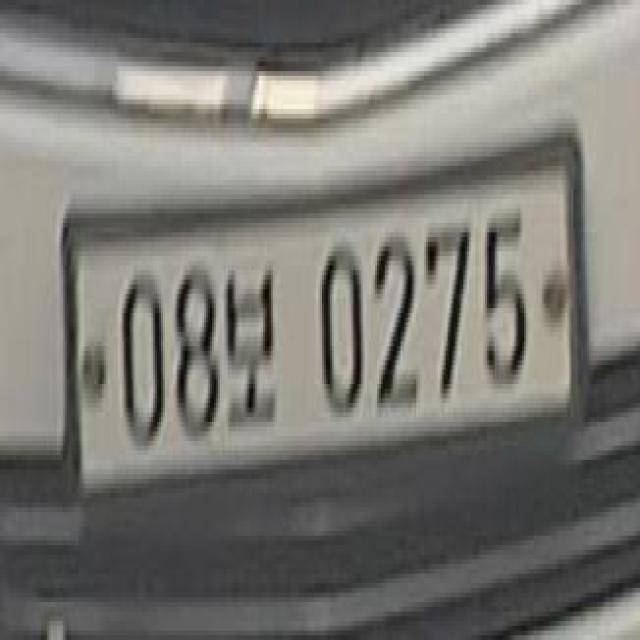illegal_plate: (68, 151, 581, 511)
